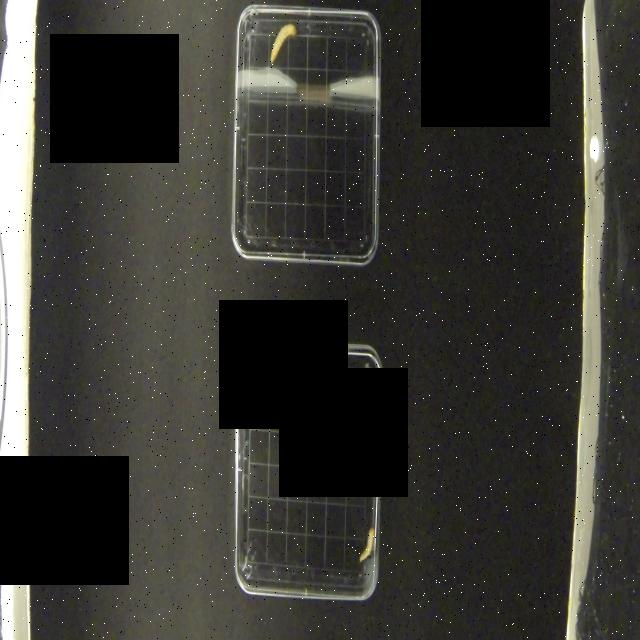larva: (269, 22, 297, 64), (358, 525, 377, 566)
